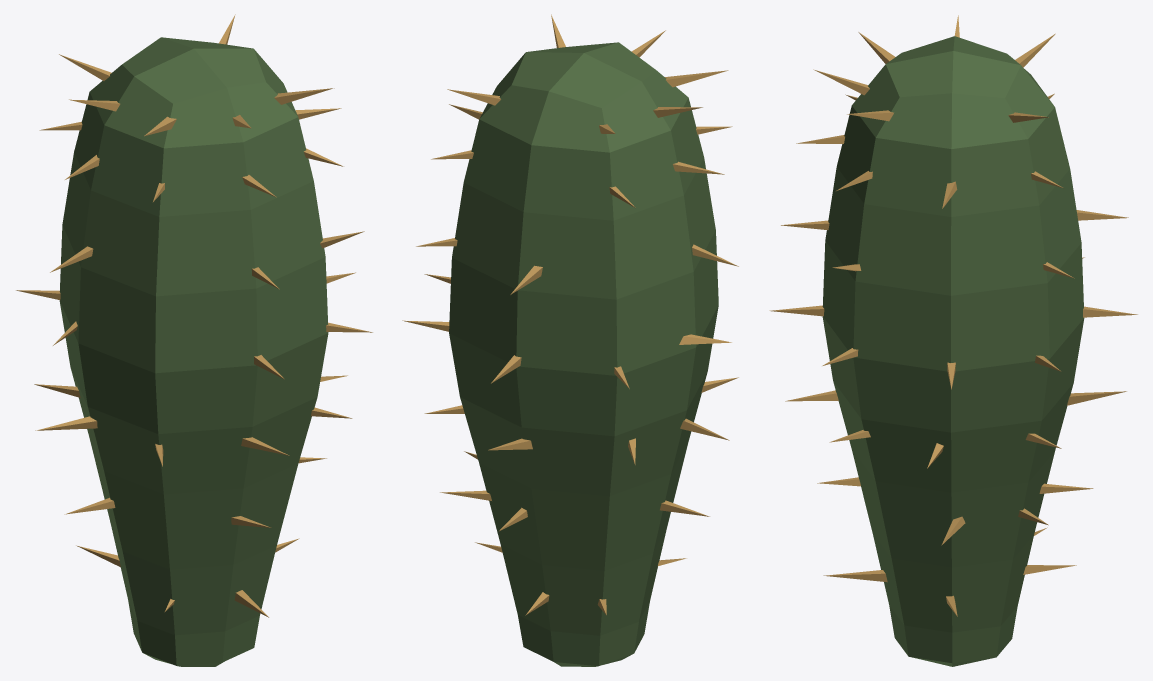
Rendered from cactus_1.glb.
3 views of the same model, side by side, from view 1: azimuth 30°, elevation 25°; view 2: azimuth 150°, elevation 25°; view 3: azimuth 270°, elevation 25° (orthographic).
Visible parts, largest first — view 1: cactus_1; view 2: cactus_1; view 3: cactus_1.
Part boxes in pixels (<box>): cactus_1: <box>16,14,372,666</box>; cactus_1: <box>402,14,738,666</box>; cactus_1: <box>769,15,1137,666</box>.
Bounding box in the file's own units: 0.5497 × 1.01 × 0.5629.
Materials: 1 (1 with a texture image).
